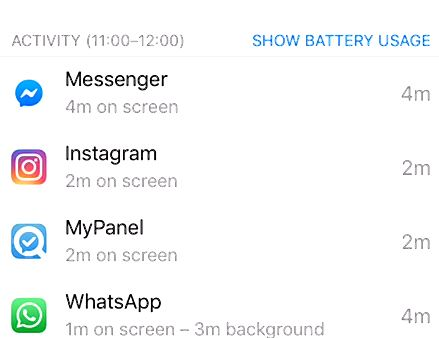activity: (9, 26, 195, 58)
app: (8, 67, 435, 131), (7, 136, 434, 200), (8, 209, 435, 273)
